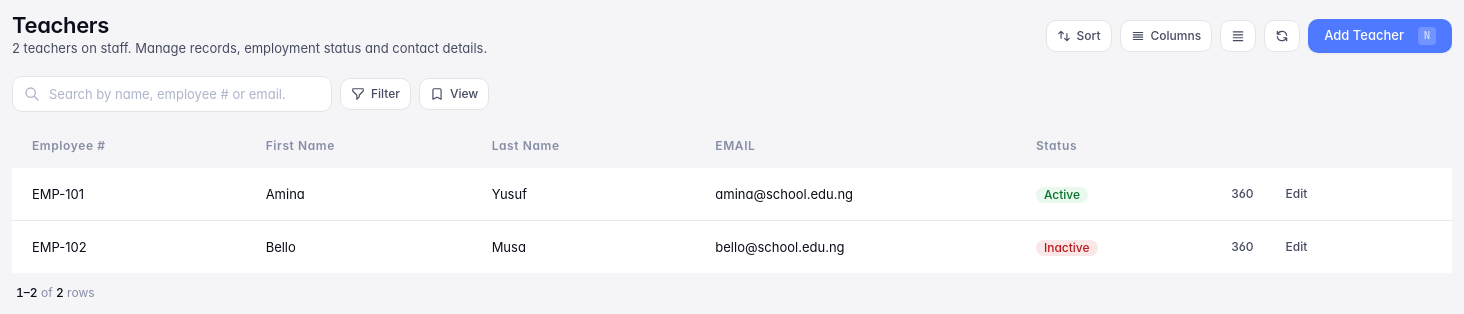
Scenario: Teacher list — DataWorkspace (local mode) › filters rows locally from the rail search box
This screenshot has width=1464, height=314.
Expected: the text "Amina" is shown, [246,168,472,221]
Type "bello" into the search field named "Filter table".
click(172, 94); type("bello")  # box [12,76,332,112]
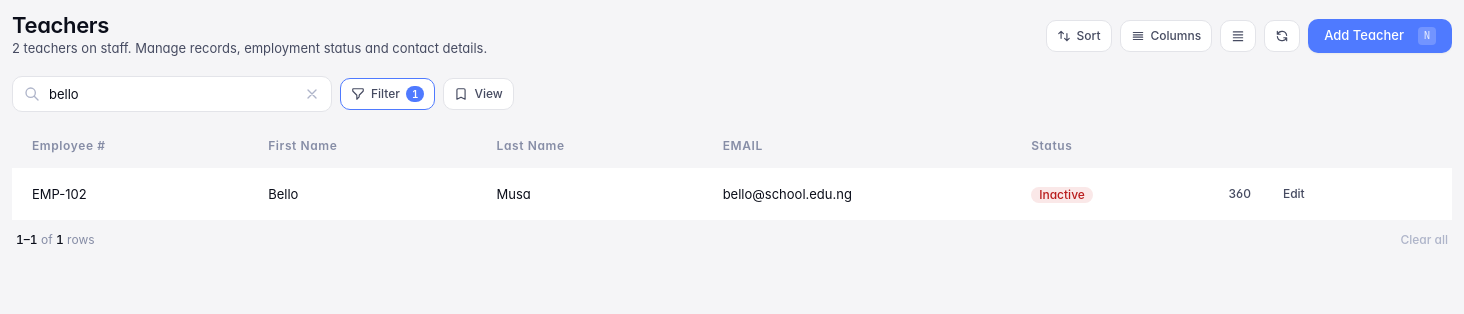
Expected: the text "Bello" is shown, [248,168,477,220]
Now the text "Amina" is gone
